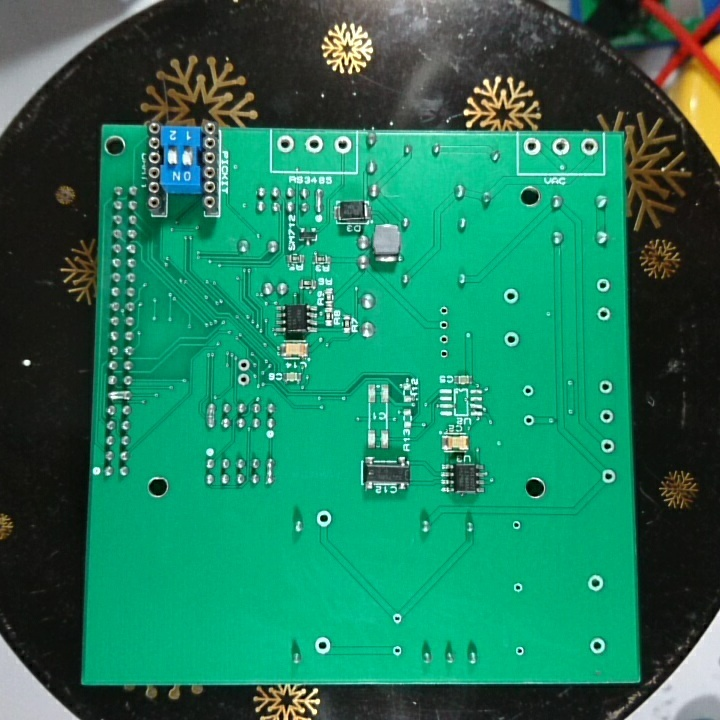F: (303, 132, 326, 158), (312, 507, 335, 532), (579, 134, 601, 158), (586, 635, 608, 659), (522, 134, 543, 158), (275, 132, 296, 156), (584, 574, 607, 595), (551, 135, 572, 158), (333, 133, 354, 156), (312, 635, 334, 656), (501, 287, 521, 306), (504, 329, 521, 351), (597, 377, 616, 396), (594, 277, 613, 296), (598, 437, 618, 455), (596, 305, 612, 326), (598, 407, 616, 425), (600, 466, 616, 486), (513, 641, 527, 662), (235, 357, 253, 373), (521, 413, 538, 429), (236, 372, 251, 390), (521, 383, 536, 400), (436, 304, 452, 319), (435, 318, 451, 332), (390, 644, 406, 658), (512, 580, 525, 597), (390, 611, 404, 626), (438, 347, 451, 362), (510, 518, 522, 534), (437, 332, 450, 346)
P: (106, 389, 136, 403), (204, 400, 217, 432), (264, 457, 275, 487), (314, 185, 325, 215)
